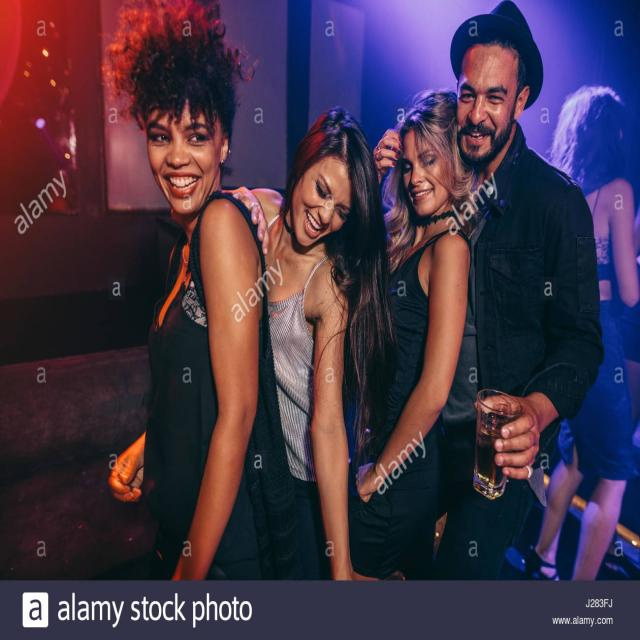body: (369, 0, 604, 580), (108, 15, 294, 581), (219, 102, 395, 582), (349, 91, 472, 579), (522, 78, 640, 582)
